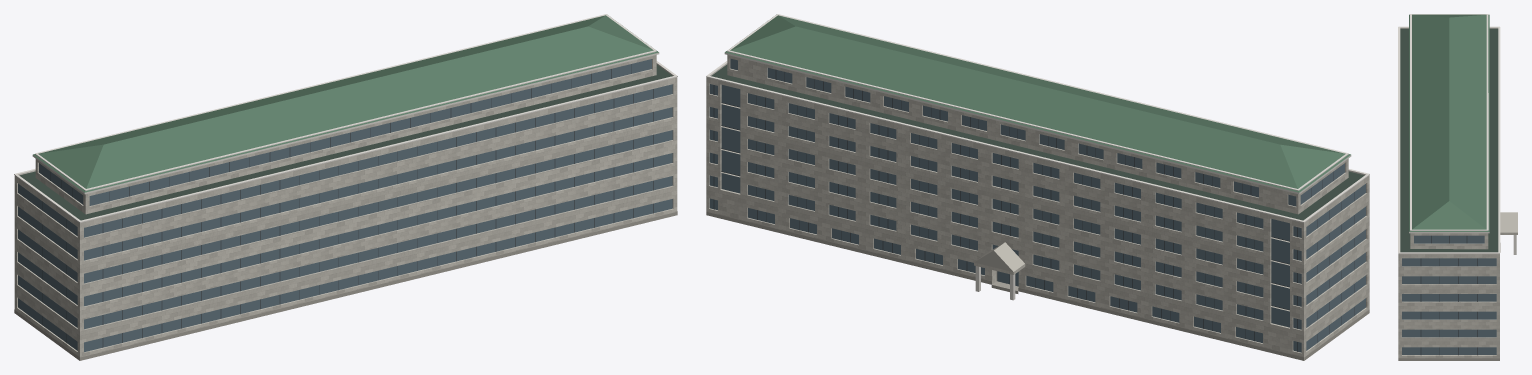
3 renders of one model, left to right at view 1: azimuth 30°, elevation 25°; view 2: azimuth 150°, elevation 25°; view 3: azimuth 270°, elevation 25°, orthographic. The views are drawn at different scales.
Visible parts, largest first — view 1: humanities__wall, humanities__glass, humanities__roofAccent, humanities__trim, humanities__roof, humanities__base, humanities__frame, humanities__parapet; view 2: humanities__wall, humanities__glass, humanities__roofAccent, humanities__trim, humanities__roof, humanities__base, humanities__frame, humanities__parapet; view 3: humanities__roofAccent, humanities__wall, humanities__glass, humanities__roof, humanities__trim, humanities__base, humanities__frame, humanities__parapet.
Part boxes in pixels (x1,y1,x2,y2): humanities__wall: (14, 55, 677, 360); humanities__glass: (18, 59, 672, 352); humanities__roofAccent: (33, 15, 658, 192); humanities__trim: (14, 14, 677, 222); humanities__roof: (19, 64, 672, 220); humanities__base: (14, 211, 677, 360); humanities__frame: (42, 64, 653, 347); humanities__parapet: (15, 63, 677, 223); humanities__wall: (706, 55, 1369, 360); humanities__glass: (709, 58, 1365, 352); humanities__roofAccent: (725, 14, 1350, 192); humanities__trim: (706, 14, 1369, 222); humanities__roof: (711, 64, 1364, 220); humanities__base: (706, 212, 1369, 360); humanities__frame: (713, 70, 1354, 351); humanities__parapet: (706, 63, 1369, 223); humanities__roofAccent: (1409, 14, 1489, 231); humanities__wall: (1398, 212, 1517, 358); humanities__glass: (1402, 235, 1496, 354); humanities__roof: (1400, 28, 1498, 252); humanities__trim: (1398, 14, 1500, 253); humanities__base: (1398, 243, 1500, 360); humanities__frame: (1420, 235, 1477, 355); humanities__parapet: (1398, 27, 1499, 254).
Size of the model in its own units: 90.14 by 26.1 by 20.14.
10 materials, 1 textured.
